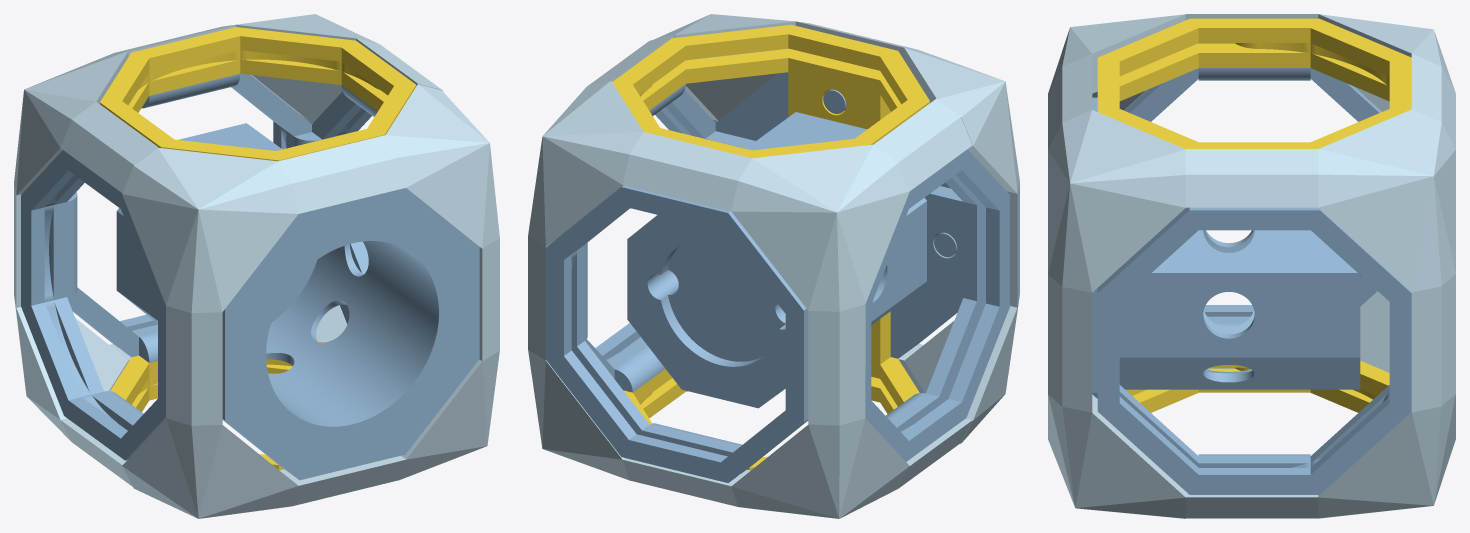
The model's file is BrynLensProposalAssembly.gltf.
3 views of the same model, side by side, from view 1: azimuth 30°, elevation 25°; view 2: azimuth 150°, elevation 25°; view 3: azimuth 270°, elevation 25° (orthographic). The views are drawn at different scales.
Parts seen in each view (by area): view 1: mesh348_meshnode_348, mesh371_meshnode_371, mesh475_meshnode_475, mesh588_meshnode_588, mesh243_meshnode_243, mesh212_meshnode_212, mesh218_meshnode_218, mesh245_meshnode_245, mesh239_meshnode_239, mesh202_meshnode_202, mesh260_meshnode_260, mesh267_meshnode_267 (+59 smaller); view 2: mesh432_meshnode_432, mesh373_meshnode_373, mesh378_meshnode_378, mesh475_meshnode_475, mesh588_meshnode_588, mesh339_meshnode_339, mesh14_meshnode_14, mesh10_meshnode_10, mesh55_meshnode_55, mesh548_meshnode_548, mesh442_meshnode_442, mesh77_meshnode_77 (+67 smaller); view 3: mesh181_meshnode_181, mesh355_meshnode_355, mesh475_meshnode_475, mesh369_meshnode_369, mesh68_meshnode_68, mesh250_meshnode_250, mesh357_meshnode_357, mesh59_meshnode_59, mesh229_meshnode_229, mesh72_meshnode_72, mesh256_meshnode_256, mesh53_meshnode_53 (+61 smaller).
Boxes of the visible parts, left/top/right/bottom form: mesh348_meshnode_348: left=225, top=188, right=479, bottom=480; mesh371_meshnode_371: left=266, top=241, right=438, bottom=426; mesh475_meshnode_475: left=100, top=27, right=415, bottom=160; mesh588_meshnode_588: left=21, top=150, right=165, bottom=460; mesh243_meshnode_243: left=198, top=209, right=298, bottom=311; mesh212_meshnode_212: left=198, top=425, right=298, bottom=518; mesh218_meshnode_218: left=406, top=143, right=489, bottom=248; mesh245_meshnode_245: left=122, top=194, right=198, bottom=304; mesh239_meshnode_239: left=191, top=312, right=222, bottom=425; mesh202_meshnode_202: left=406, top=362, right=487, bottom=459; mesh260_meshnode_260: left=292, top=157, right=405, bottom=213; mesh267_meshnode_267: left=158, top=147, right=277, bottom=209; mesh432_meshnode_432: left=545, top=187, right=803, bottom=482; mesh373_meshnode_373: left=627, top=215, right=785, bottom=408; mesh378_meshnode_378: left=668, top=237, right=785, bottom=361; mesh475_meshnode_475: left=612, top=24, right=929, bottom=158; mesh588_meshnode_588: left=865, top=149, right=1009, bottom=461; mesh339_meshnode_339: left=715, top=72, right=962, bottom=358; mesh14_meshnode_14: left=732, top=211, right=836, bottom=310; mesh10_meshnode_10: left=732, top=425, right=839, bottom=518; mesh55_meshnode_55: left=542, top=136, right=622, bottom=246; mesh548_meshnode_548: left=920, top=193, right=976, bottom=301; mesh442_meshnode_442: left=788, top=58, right=880, bottom=129; mesh77_meshnode_77: left=753, top=144, right=873, bottom=212; mesh181_meshnode_181: left=1097, top=210, right=1411, bottom=494; mesh355_meshnode_355: left=1119, top=273, right=1360, bottom=357; mesh475_meshnode_475: left=1097, top=18, right=1411, bottom=148; mesh369_meshnode_369: left=1119, top=357, right=1360, bottom=389; mesh68_meshnode_68: left=1318, top=176, right=1433, bottom=292; mesh250_meshnode_250: left=1070, top=183, right=1185, bottom=292; mesh357_meshnode_357: left=1152, top=230, right=1357, bottom=272; mesh59_meshnode_59: left=1318, top=413, right=1433, bottom=505; mesh229_meshnode_229: left=1075, top=413, right=1185, bottom=508; mesh72_meshnode_72: left=1185, top=174, right=1318, bottom=207; mesh256_meshnode_256: left=1070, top=110, right=1185, bottom=182; mesh53_meshnode_53: left=1411, top=286, right=1441, bottom=412.
Size of the model in its own units: 0.0705 by 0.0705 by 0.0704.
